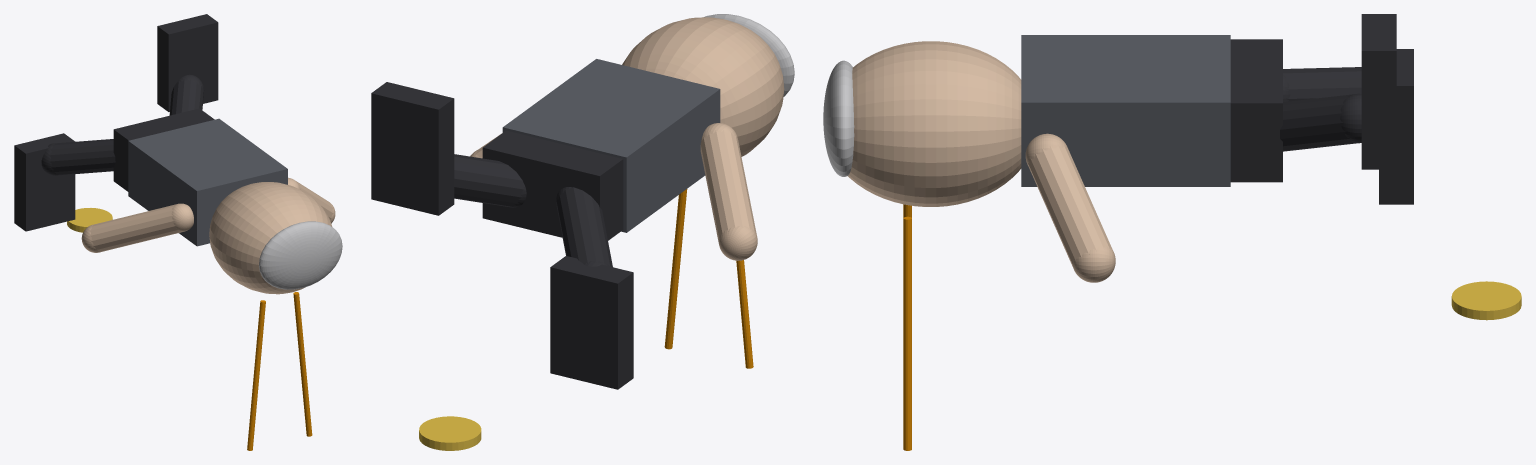
File: character_business_prophet_laser_runner.glb
3 views of the same model, side by side, from view 1: azimuth 30°, elevation 25°; view 2: azimuth 150°, elevation 25°; view 3: azimuth 270°, elevation 25° (orthographic). The views are drawn at different scales.
Parts seen in each view (by area): view 1: torso, head, right_shoe, left_shoe, hair_gray, left_arm, left_leg, hips, right_leg, laser_l, laser_r, coin_belt (+1 smaller); view 2: torso, head, right_shoe, left_shoe, hips, left_arm, left_leg, right_leg, coin_belt, laser_r, hair_gray, laser_l; view 3: torso, head, hips, right_arm, right_shoe, right_leg, left_shoe, hair_gray, left_leg, coin_belt, laser_r.
Part boxes in pixels (x1,y1,x2,y2): torso: [128, 118, 287, 246]; head: [209, 182, 332, 294]; right_shoe: [157, 14, 218, 112]; left_shoe: [14, 133, 75, 231]; hair_gray: [259, 221, 342, 289]; left_arm: [81, 203, 193, 252]; left_leg: [41, 139, 115, 175]; hips: [113, 108, 214, 191]; right_leg: [169, 74, 204, 115]; laser_l: [247, 300, 265, 450]; laser_r: [293, 292, 312, 436]; coin_belt: [67, 208, 112, 232]; torso: [502, 59, 720, 232]; head: [622, 17, 784, 156]; right_shoe: [371, 82, 454, 215]; left_shoe: [550, 256, 633, 389]; hips: [482, 130, 623, 240]; left_arm: [700, 123, 757, 260]; left_leg: [556, 187, 612, 266]; right_leg: [454, 154, 526, 207]; coin_belt: [419, 416, 481, 450]; laser_r: [664, 189, 687, 349]; hair_gray: [704, 14, 794, 96]; laser_l: [736, 260, 753, 368]; torso: [1021, 35, 1230, 186]; head: [848, 41, 1021, 206]; hips: [1230, 39, 1282, 182]; right_arm: [1025, 133, 1115, 282]; right_shoe: [1361, 14, 1396, 169]; right_leg: [1280, 93, 1361, 151]; left_shoe: [1379, 49, 1413, 204]; hair_gray: [823, 60, 854, 176]; left_leg: [1283, 67, 1361, 101]; coin_belt: [1451, 281, 1521, 320]; laser_r: [903, 216, 911, 450].
Size of the model in its own units: 1.39 by 1.68 by 2.4.
